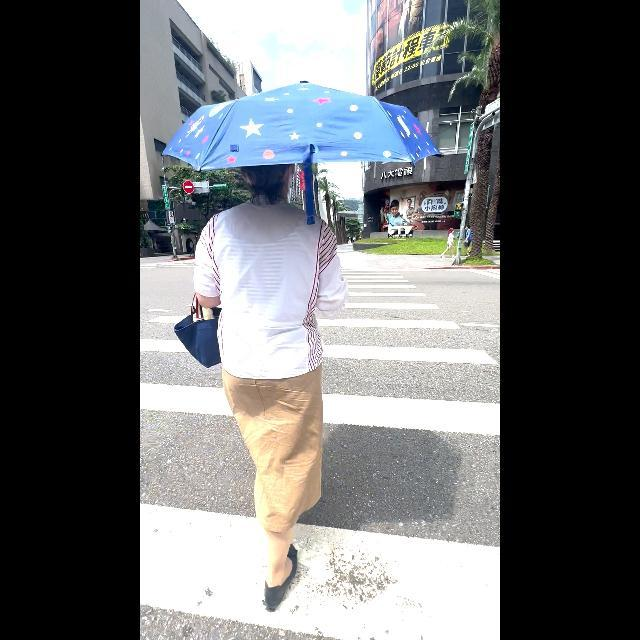sidewalk: (140, 250, 495, 640)
